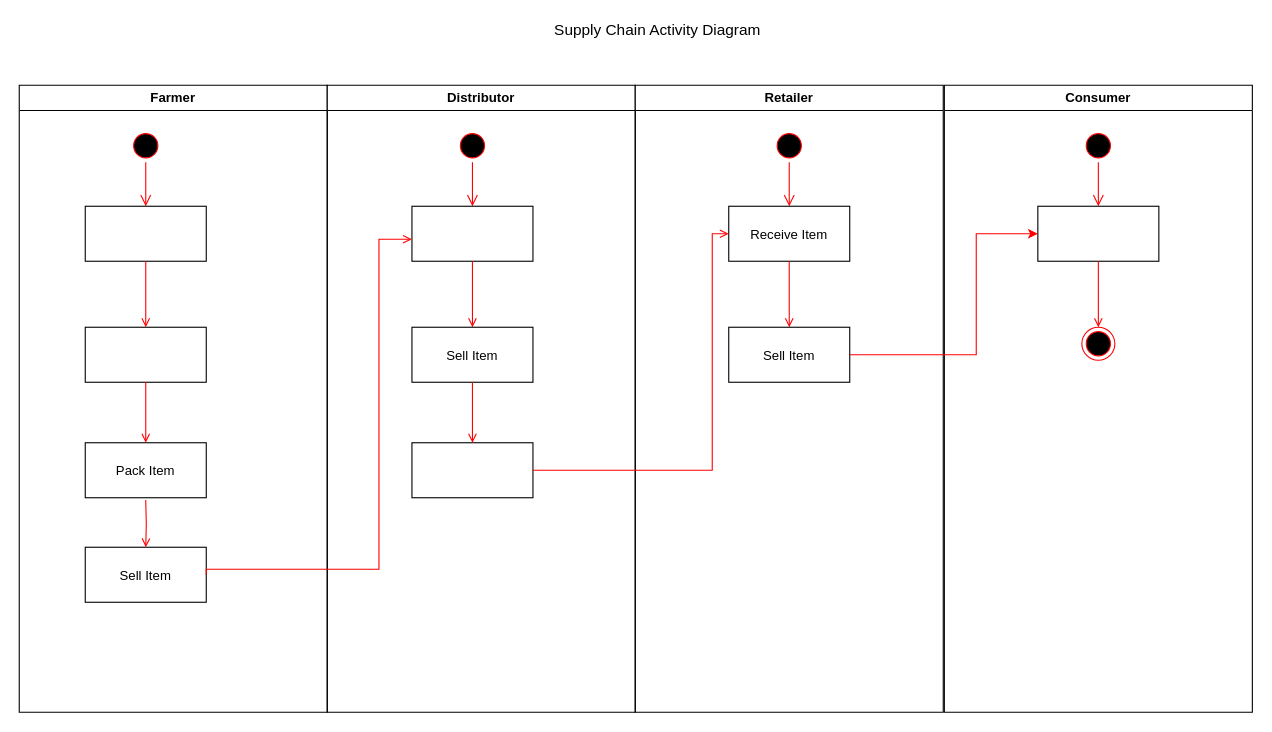
This 1272x732 diagram has some shape labels left out. The centre of each missing label's shape, as x and y in pixels:
Buy Item: [472,233]
Harvest Item: [145,233]
Process Item: [145,354]
Purchase Item: [1098,233]
Ship Item: [472,470]
